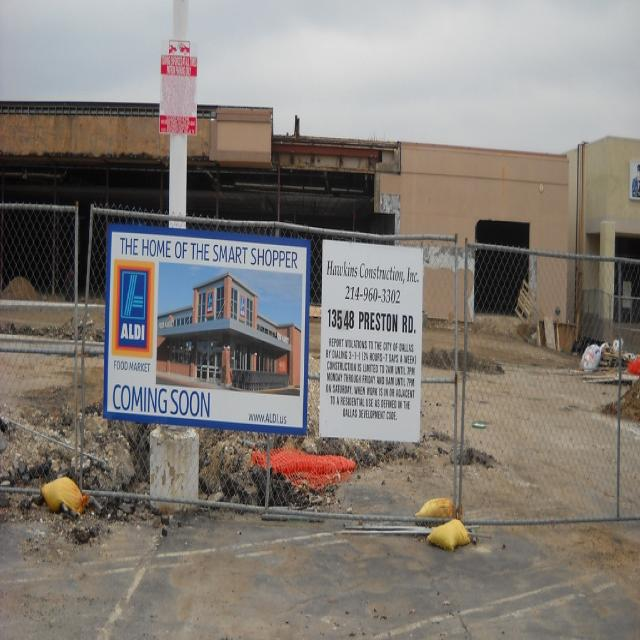aldi: (111, 258, 158, 360)
